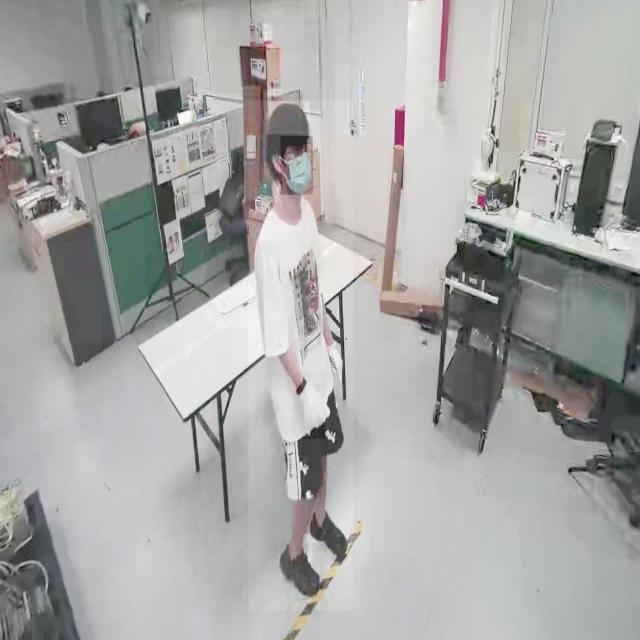face_mask: (281, 136, 313, 195)
hand_glove: (292, 372, 326, 440), (324, 337, 344, 387)
head_nohelmet: (266, 101, 310, 135)
person: (248, 99, 353, 612)
shoes: (279, 539, 321, 602), (306, 505, 350, 560)
